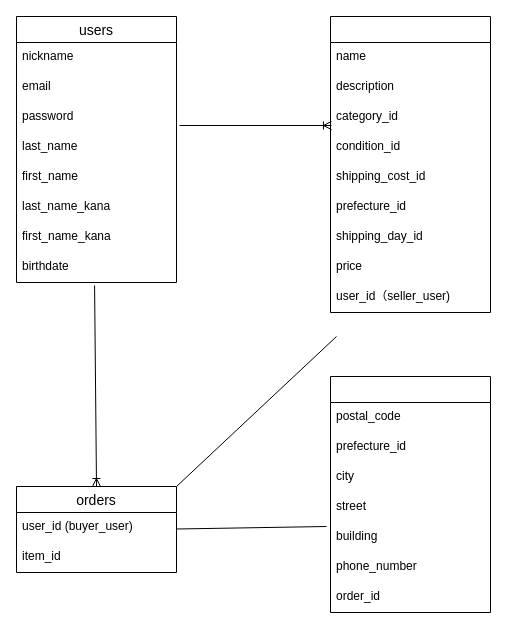
This 507x629 diagram has some shape labels left out. Here are the shapes that lost their labels. From the top down, the box of each, then its label:
(330, 16, 490, 312): items
(330, 376, 490, 612): addresses
